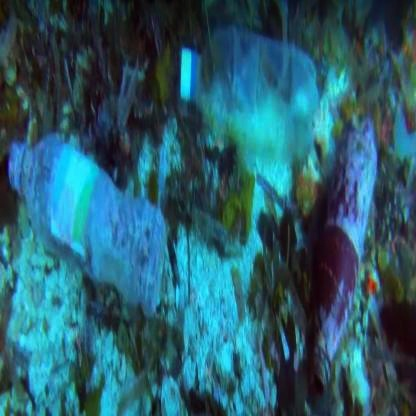gbottle: (329, 106, 372, 384)
pbottle: (7, 126, 169, 339), (175, 36, 330, 172)
